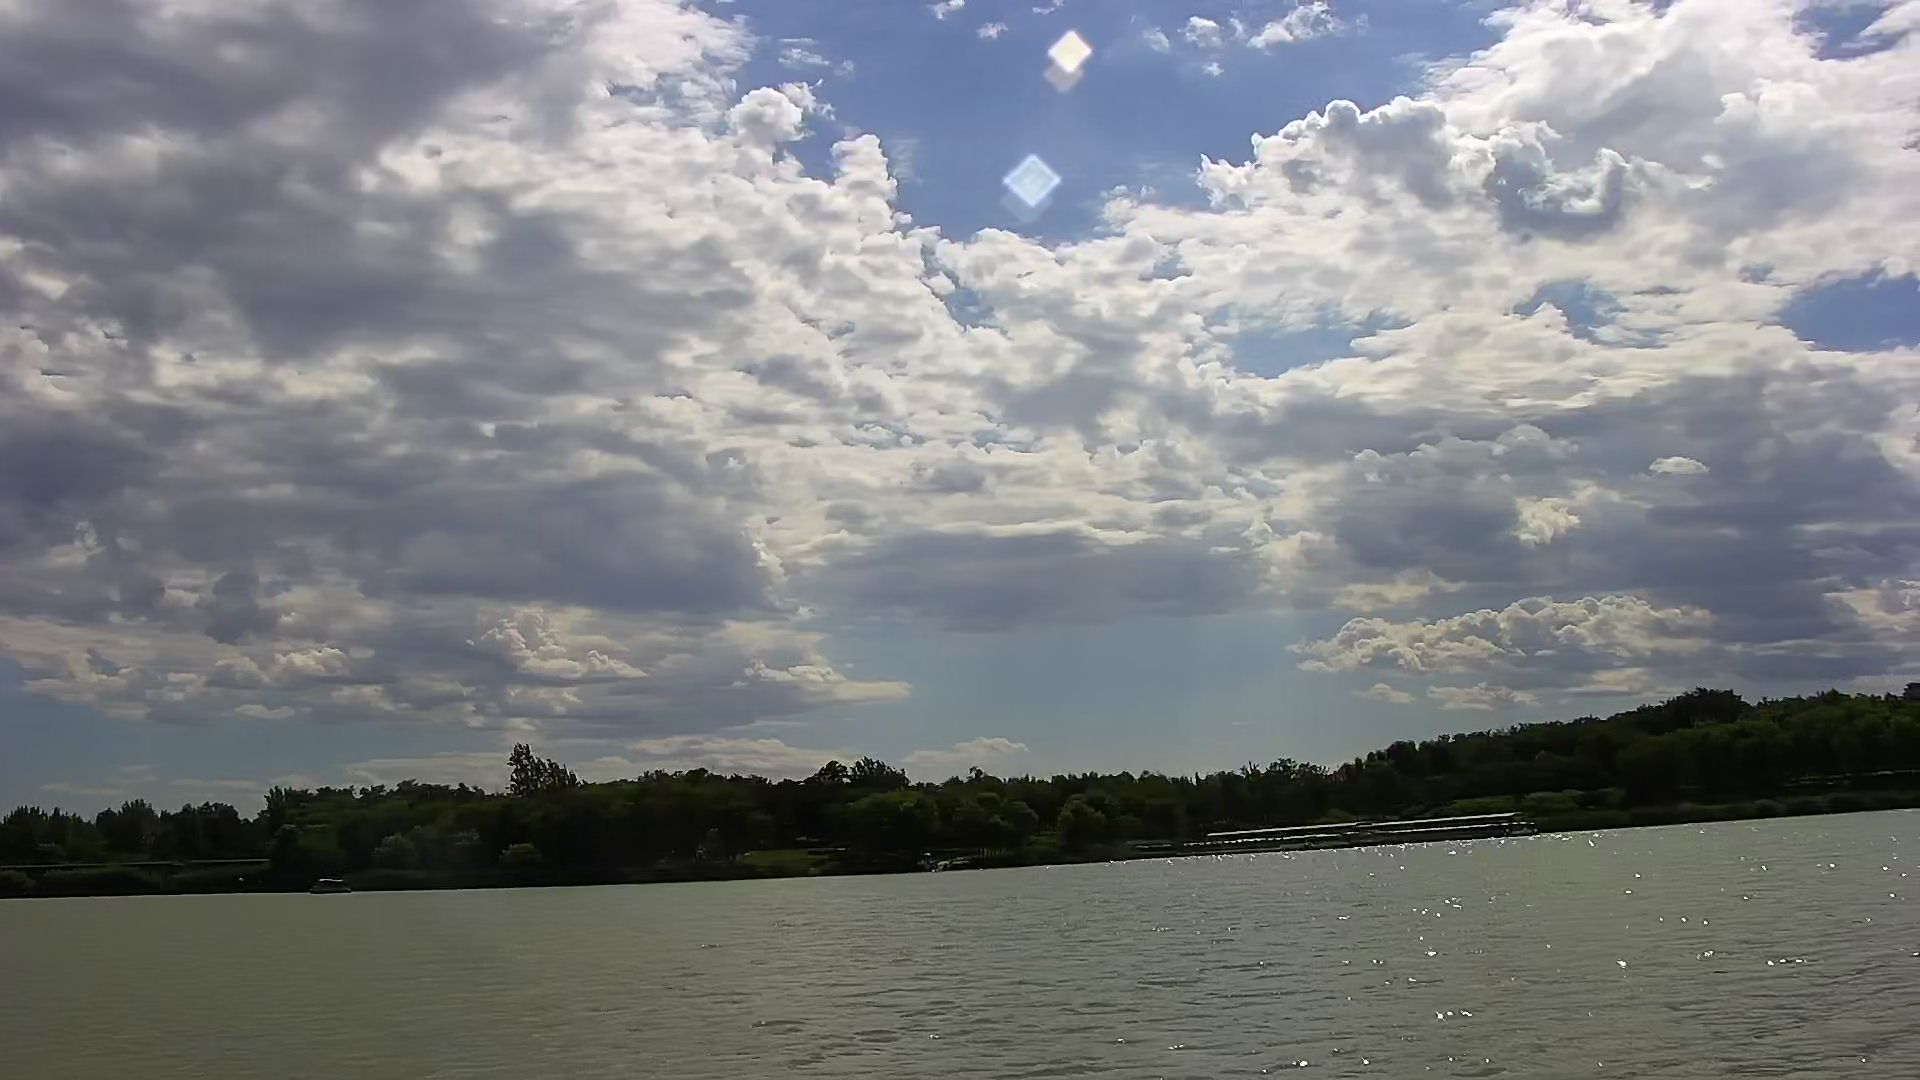harbor: (1199, 804, 1532, 855)
